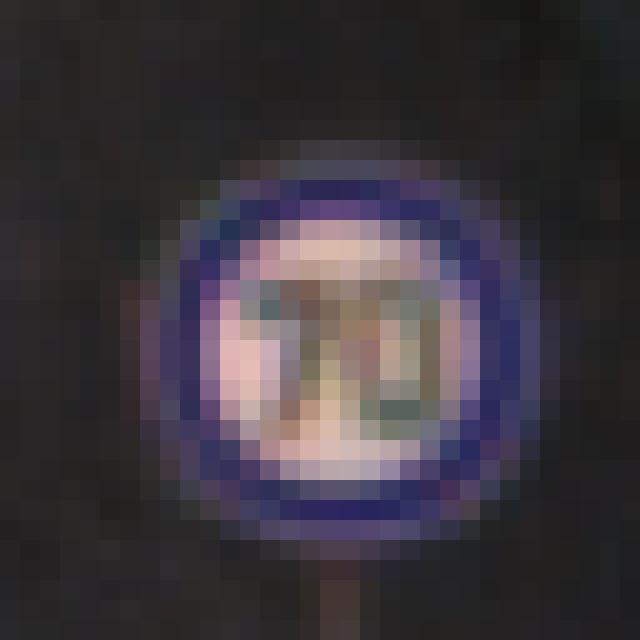SPEED LIMIT 70: (141, 161, 524, 520)
